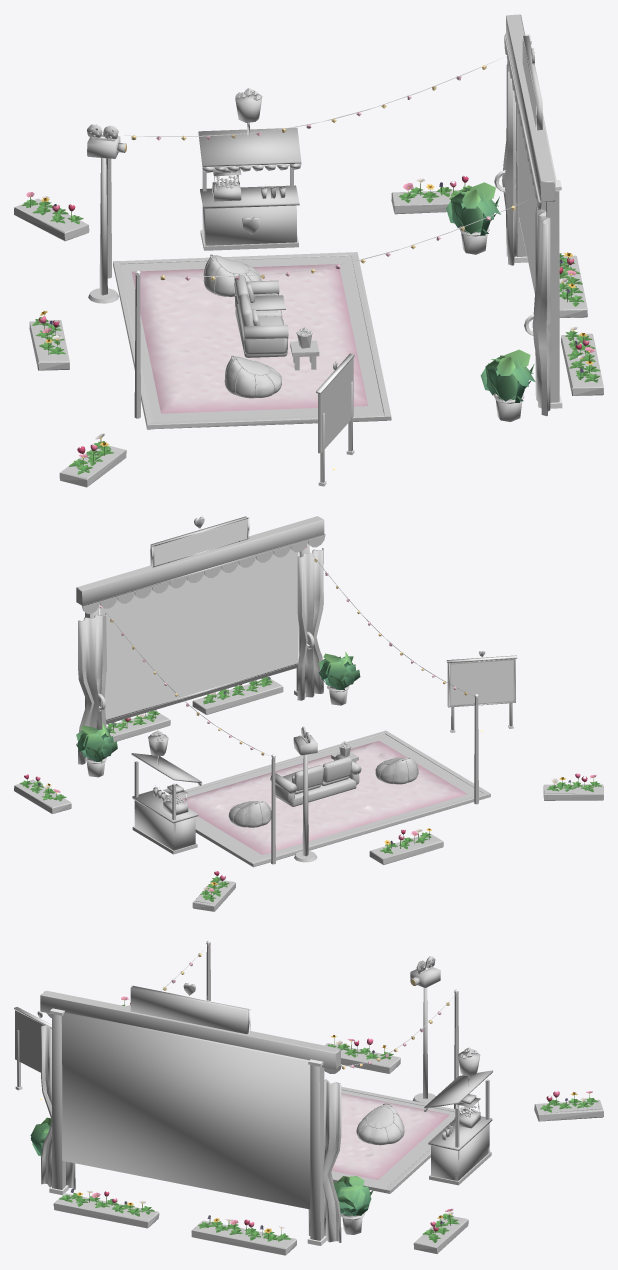
The model's file is zon_cinema_lite.glb.
3 renders of one model, top to bottom at view 1: azimuth 30°, elevation 25°; view 2: azimuth 150°, elevation 25°; view 3: azimuth 270°, elevation 25°, orthographic. The views are drawn at different scales.
Parts seen in each view (by area): view 1: SM_zon_cinema_lite_kit_cinema_x0_z0, SM_zon_cinema_lite_room_rug_fabric_x0_z0, SM_zon_cinema_lite_vc_palette_x0_z0, SM_zon_cinema_lite_veg_leaf_clip_x1_z0, HIT_bld_cinema_watchlist_sign__0, SCREEN_bld_cinema_screen_film__0, SM_zon_cinema_lite_kit_cinema_gloss_x0_z0; view 2: SM_zon_cinema_lite_kit_cinema_x0_z0, SCREEN_bld_cinema_screen_film__0, SM_zon_cinema_lite_room_rug_fabric_x0_z0, SM_zon_cinema_lite_vc_palette_x0_z0, SCREEN_bld_cinema_watchlist_face__0, SM_zon_cinema_lite_kit_cinema_gloss_x0_z0, SM_zon_cinema_lite_veg_leaf_clip_x1_z0, SCREEN_bld_cinema_screen_marquee__0, HIT_bld_cinema_watchlist_sign__0; view 3: SM_zon_cinema_lite_kit_cinema_x0_z0, SM_zon_cinema_lite_room_rug_fabric_x0_z0, SM_zon_cinema_lite_vc_palette_x0_z0, SM_zon_cinema_lite_veg_leaf_clip_x1_z0, HIT_bld_cinema_watchlist_sign__0, SM_zon_cinema_lite_kit_cinema_gloss_x0_z0.
Part boxes in pixels (x1,y1,x2,y2): SM_zon_cinema_lite_kit_cinema_x0_z0: (14,14,603,487); SM_zon_cinema_lite_room_rug_fabric_x0_z0: (132,264,367,413); SM_zon_cinema_lite_vc_palette_x0_z0: (21,176,600,474); SM_zon_cinema_lite_veg_leaf_clip_x1_z0: (446,182,535,402); HIT_bld_cinema_watchlist_sign__0: (318,358,353,453); SCREEN_bld_cinema_screen_film__0: (519,115,545,292); SM_zon_cinema_lite_kit_cinema_gloss_x0_z0: (92,34,562,486); SM_zon_cinema_lite_kit_cinema_x0_z0: (14,516,603,911); SCREEN_bld_cinema_screen_film__0: (100,548,297,719); SM_zon_cinema_lite_room_rug_fabric_x0_z0: (181,740,467,854); SM_zon_cinema_lite_vc_palette_x0_z0: (19,676,601,902); SCREEN_bld_cinema_watchlist_face__0: (450,660,513,705); SM_zon_cinema_lite_kit_cinema_gloss_x0_z0: (82,517,517,804); SM_zon_cinema_lite_veg_leaf_clip_x1_z0: (76,651,360,761); SCREEN_bld_cinema_screen_marquee__0: (154,519,247,565); HIT_bld_cinema_watchlist_sign__0: (447,659,515,707); SM_zon_cinema_lite_kit_cinema_x0_z0: (17,944,603,1255); SM_zon_cinema_lite_room_rug_fabric_x0_z0: (332,1093,449,1179); SM_zon_cinema_lite_vc_palette_x0_z0: (59,996,598,1242); SM_zon_cinema_lite_veg_leaf_clip_x1_z0: (30,1117,373,1216); HIT_bld_cinema_watchlist_sign__0: (15,1010,43,1072); SM_zon_cinema_lite_kit_cinema_gloss_x0_z0: (14,940,480,1245).
Size of the model in its own units: 21.35 by 9.5 by 21.74.
